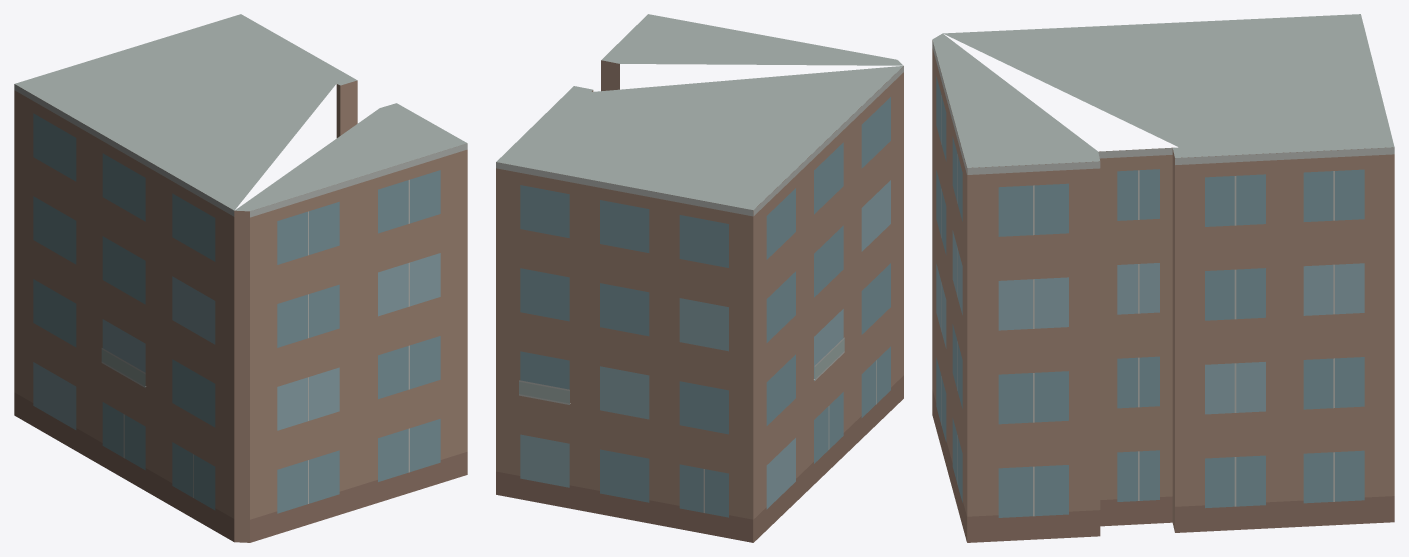
File: survey-upis-32746779.glb
3 views of the same model, side by side, from view 1: azimuth 30°, elevation 25°; view 2: azimuth 150°, elevation 25°; view 3: azimuth 270°, elevation 25° (orthographic). The views are drawn at different scales.
Parts seen in each view (by area): view 1: survey-upis-32746779.tmp; view 2: survey-upis-32746779.tmp; view 3: survey-upis-32746779.tmp.
Part boxes in pixels (x1=…): survey-upis-32746779.tmp: x1=14, y1=14, x2=467, y2=542; survey-upis-32746779.tmp: x1=496, y1=14, x2=903, y2=542; survey-upis-32746779.tmp: x1=932, y1=14, x2=1394, y2=542.
Bounding box in the file's own units: 11.37 × 12.9 × 14.43.
